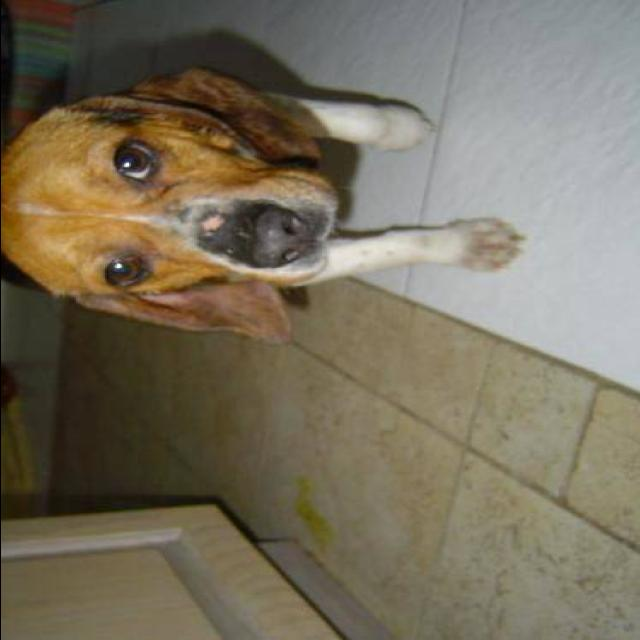dog: (1, 52, 534, 356)
